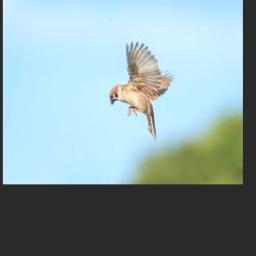Sparrow: (109, 42, 173, 140)
